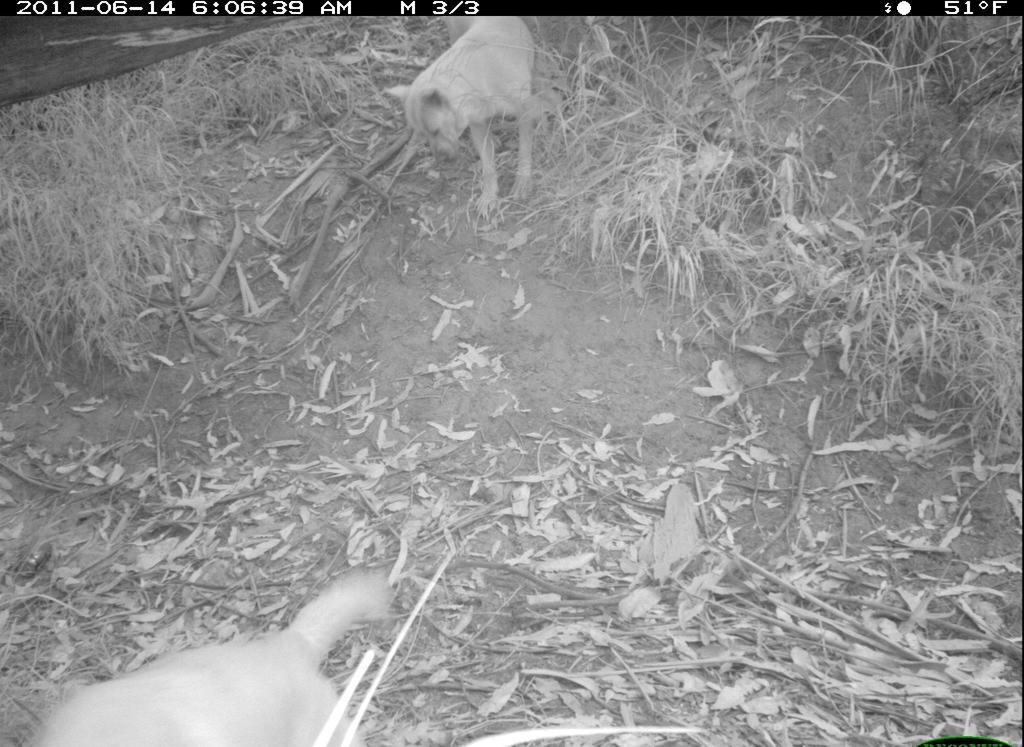dog: (27, 546, 415, 743), (378, 15, 582, 226)
